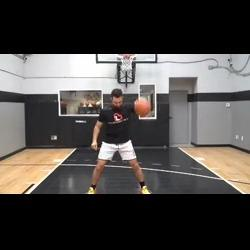BasketBall: (132, 96, 151, 116)
